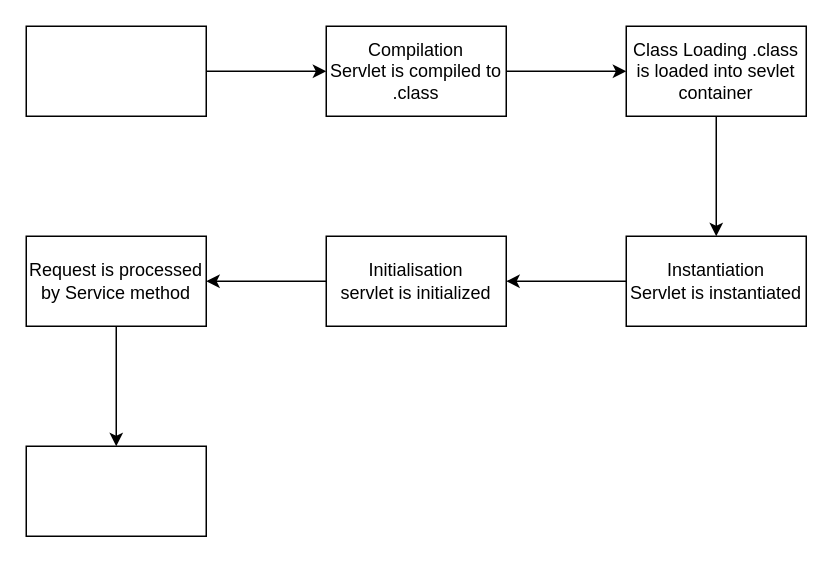
This 833x563 diagram has some shape labels left out. The shapes that lost their labels are listed below. From the top down, each one's centre as x and y in pixels, then its label:
At pixel 115 70: "Translation JSP is translated to Servlet".
At pixel 115 490: "servlet is destroyed with destroy method".
